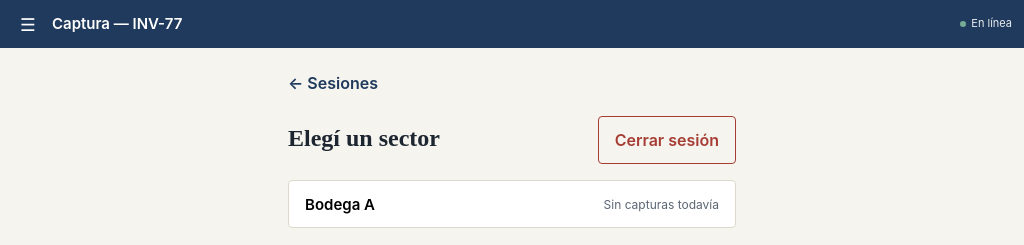
SectorPickerPage › permite cerrar la sesion con confirmacion y refleja el estado
Expected: the text "Bodega A" is shown, [305, 194, 375, 214]
Click the button "Cerrar sesión" at [667, 140], box [598, 116, 736, 164]
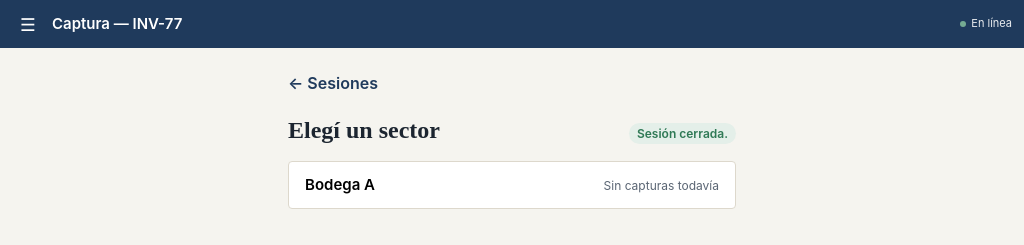
Now the message reads "Sesión cerrada.", box [637, 126, 728, 141]
